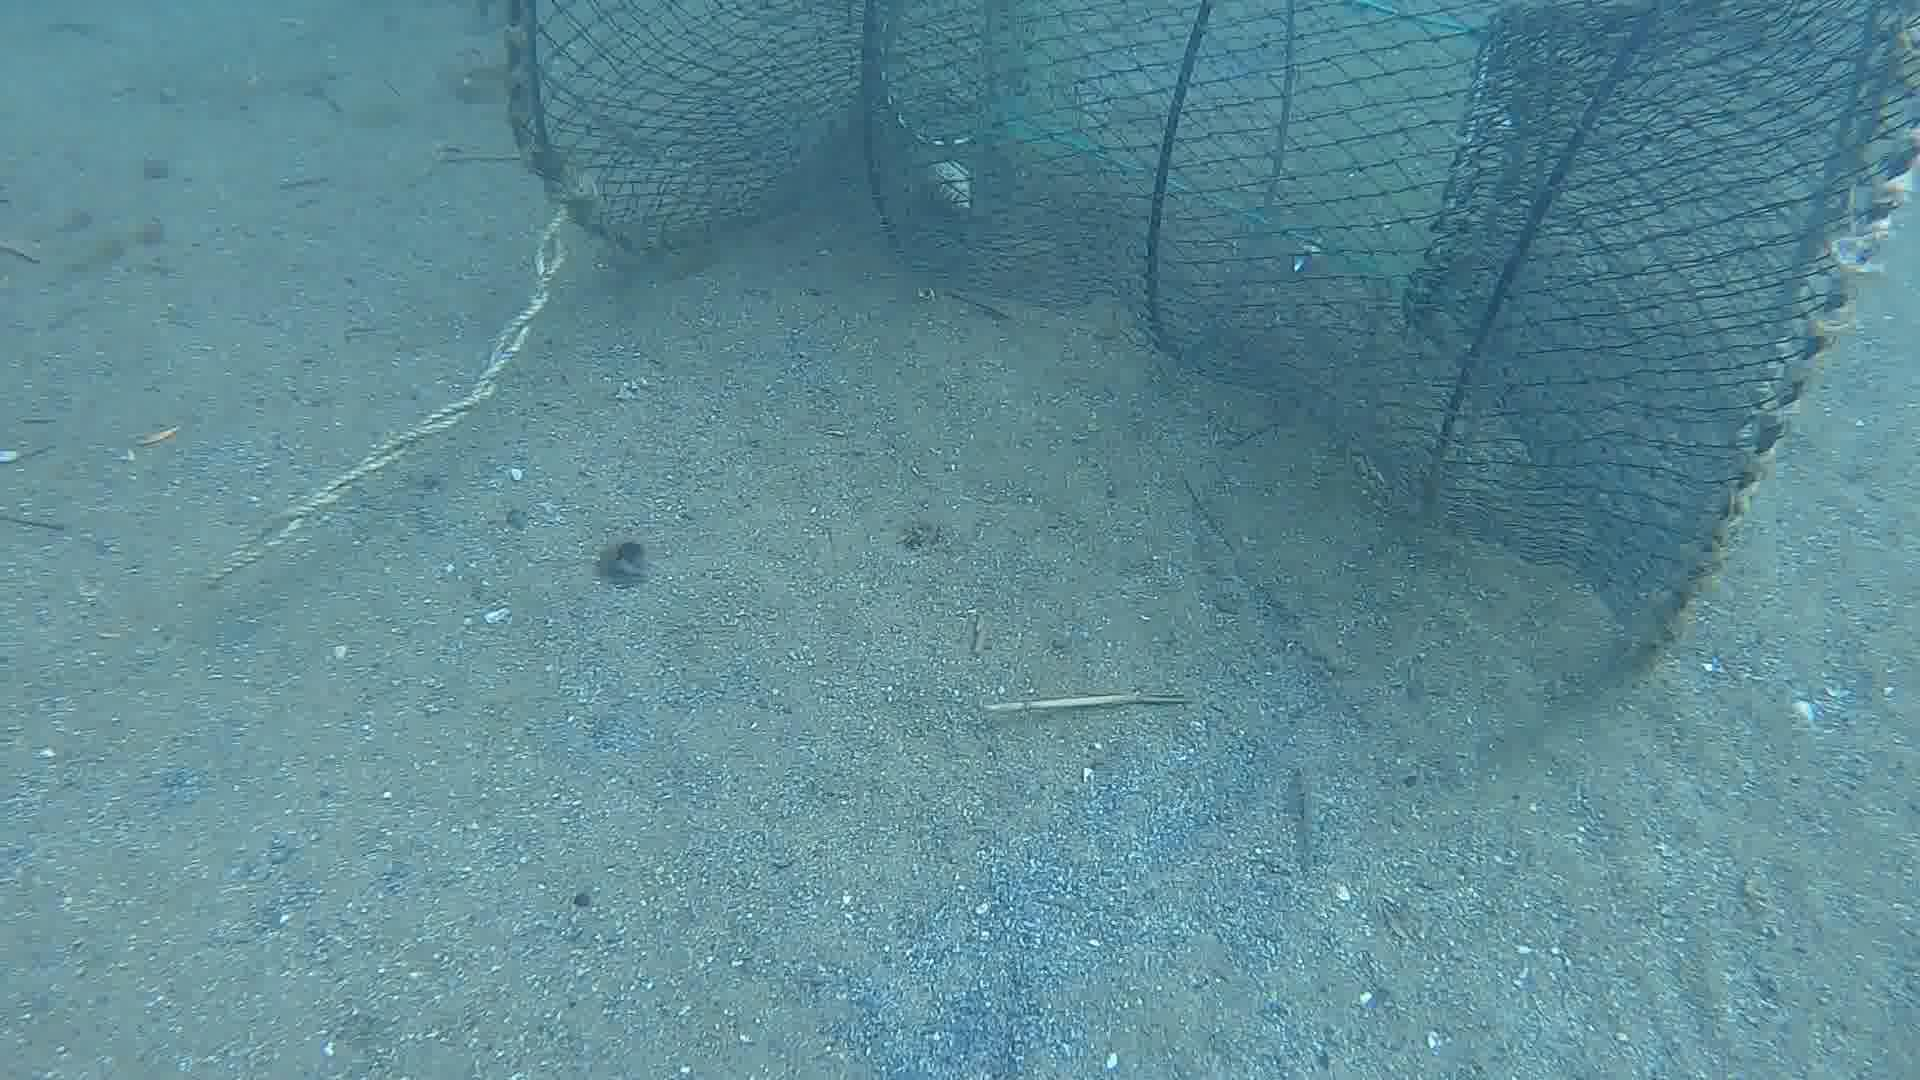bundle of ropes: (200, 218, 570, 584)
spring fish trap: (502, 0, 1920, 673)
